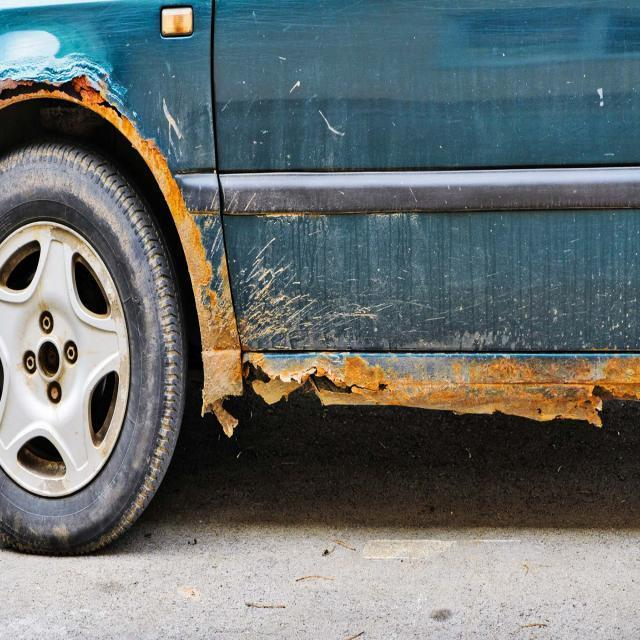Uniform Corrosion: (0, 81, 639, 437)
